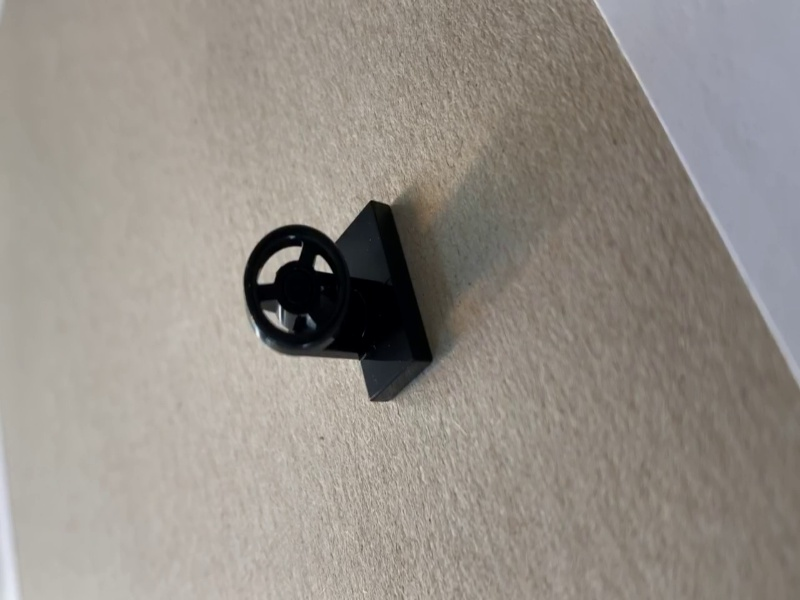steering wheel: (239, 199, 436, 405)
